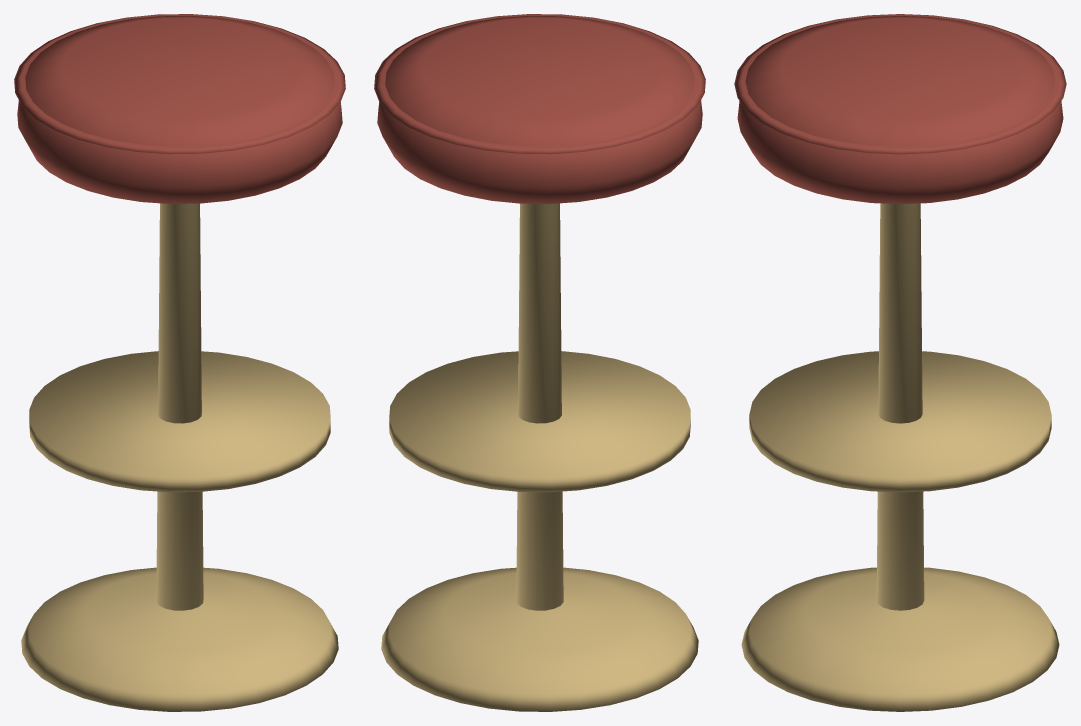
The model's file is bar_stool.glb.
3 renders of one model, left to right at view 1: azimuth 30°, elevation 25°; view 2: azimuth 150°, elevation 25°; view 3: azimuth 270°, elevation 25°, orthographic.
Visible parts, largest first — view 1: bar_stool; view 2: bar_stool; view 3: bar_stool.
Part boxes in pixels (<box>): bar_stool: <box>14,14,345,711</box>; bar_stool: <box>374,14,705,711</box>; bar_stool: <box>734,14,1066,711</box>.
Bounding box in the file's own units: 0.418 × 0.805 × 0.418.
